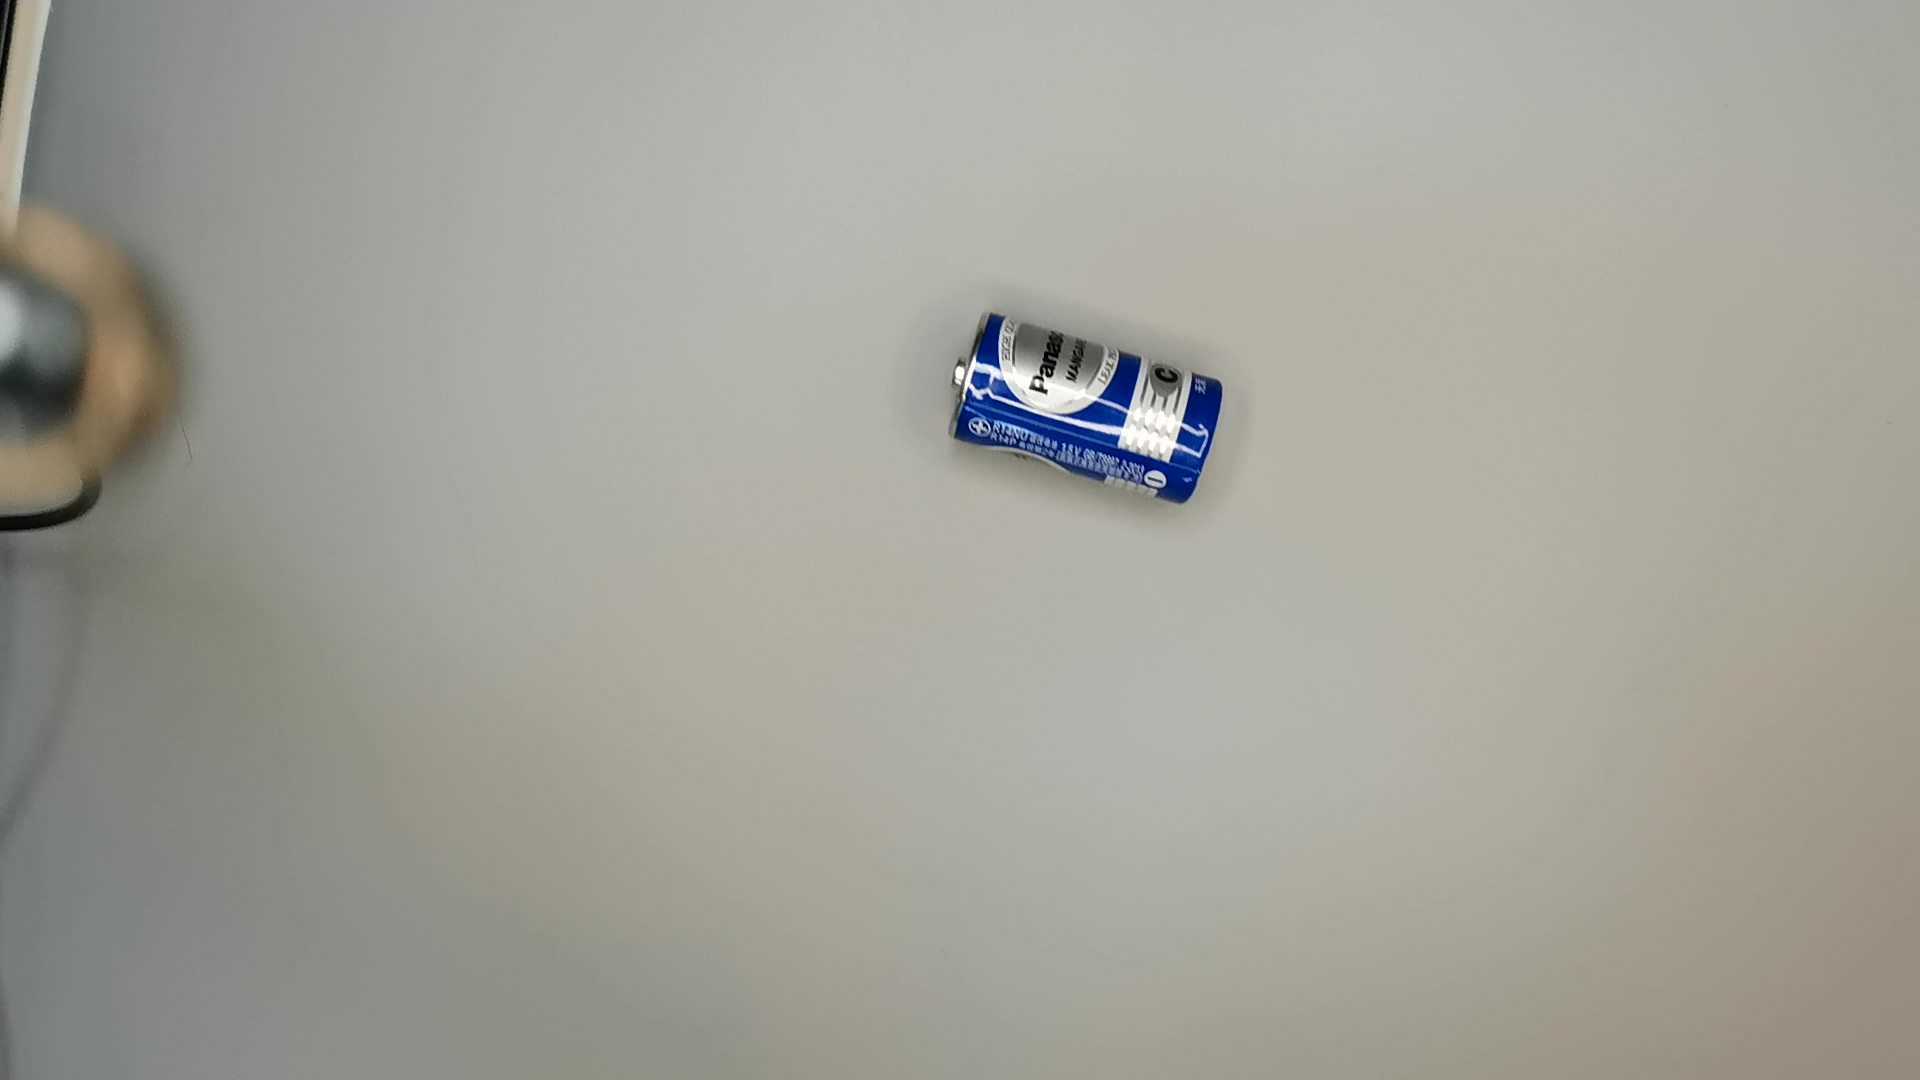battery: (934, 302, 1245, 516)
